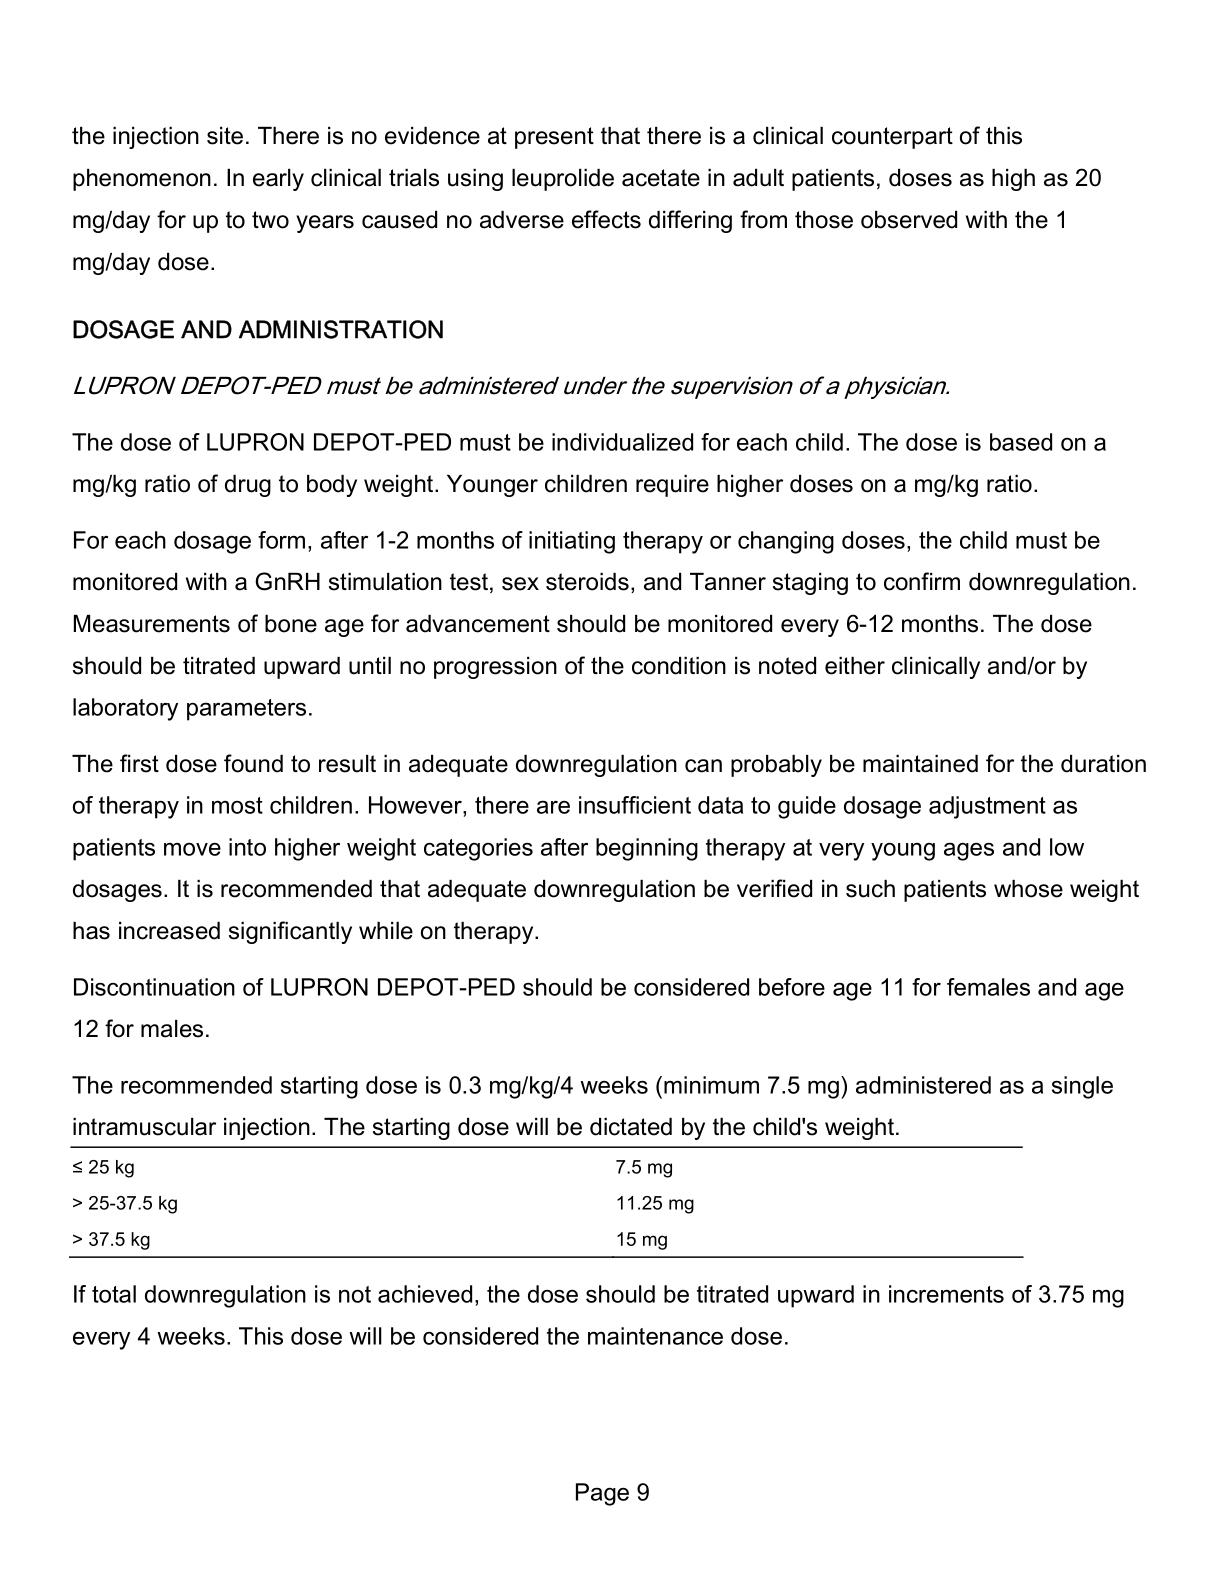partial_lined: (69, 1146, 1023, 1259)
